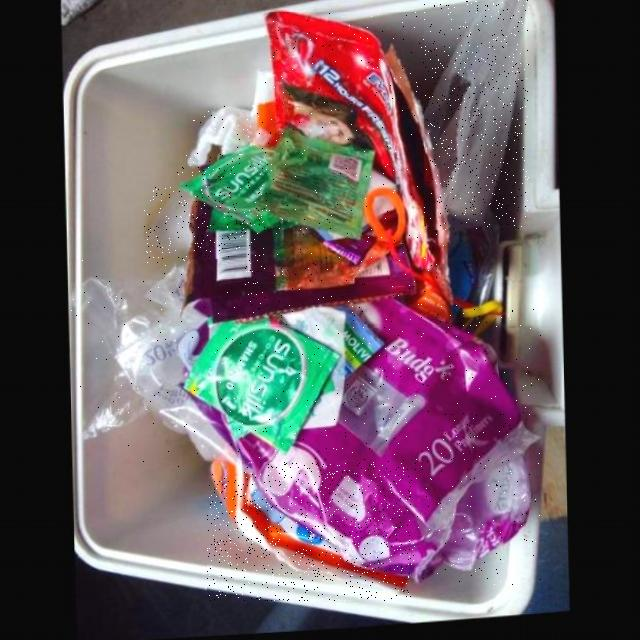paper: (188, 105, 278, 170), (144, 187, 189, 266)
plastic: (233, 302, 541, 585), (68, 260, 242, 476), (424, 0, 529, 230)
wrapper: (265, 12, 450, 326), (180, 202, 415, 328), (208, 462, 411, 601), (183, 319, 339, 452), (262, 131, 374, 243), (178, 148, 281, 237)
